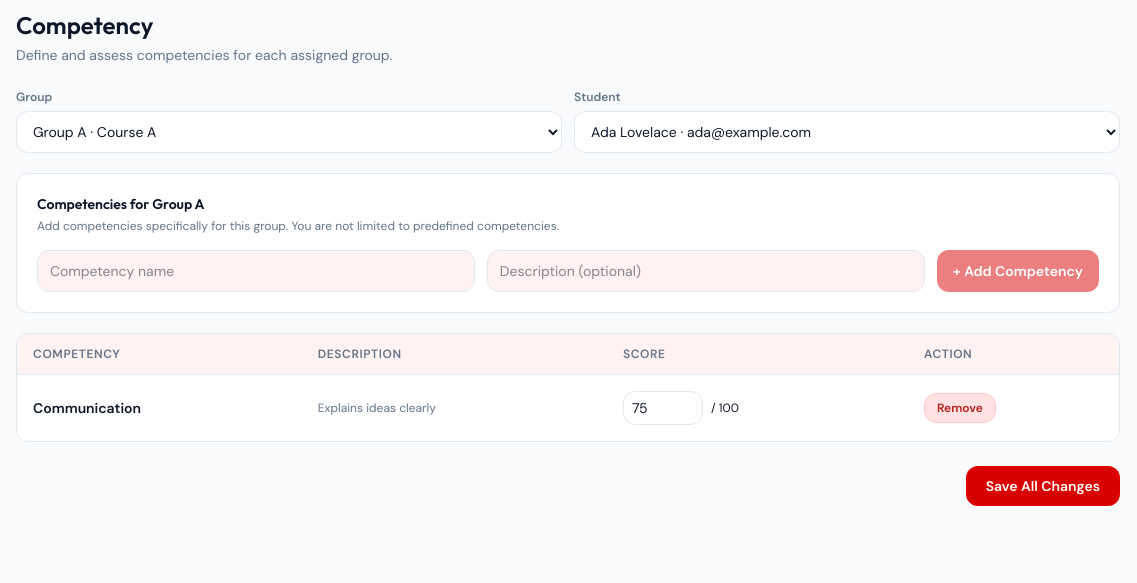
TeacherCompetency › shows an error message when adding a competency fails
The width and height of the screenshot is (1137, 583).
Type "Teamwork" into the field with placeholder "Competency name".
click(256, 271); type("Teamwork")  # box [37,250,475,292]
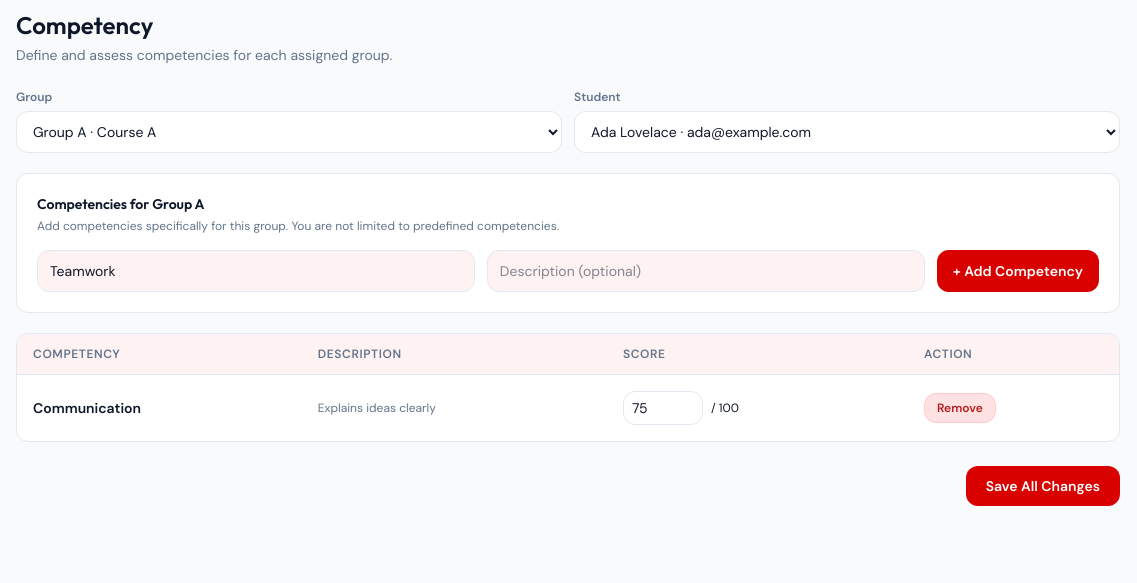
Click the button "+ Add Competency".
click(1018, 271)  # box [937,250,1099,292]
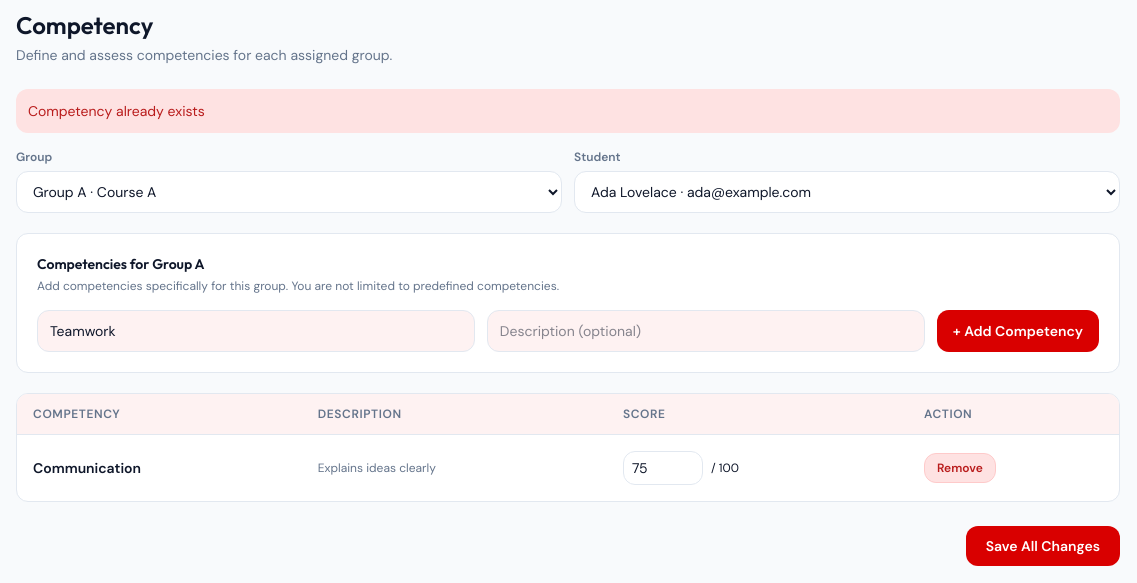
expect the text "Competency already exists" is shown: met, box [16,89,1120,133]
